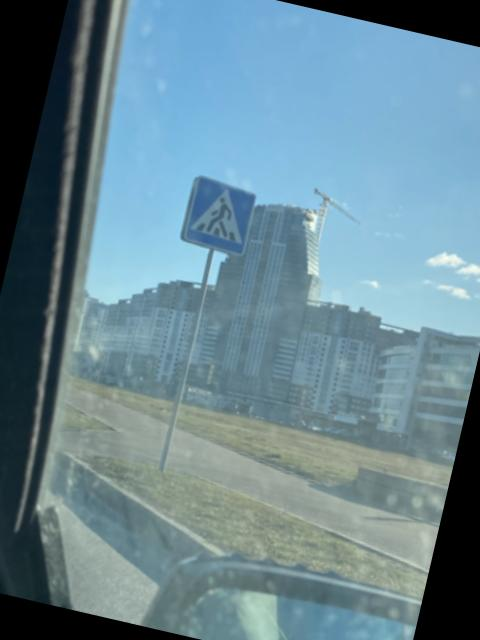crosswalk-sign: (177, 171, 260, 257)
